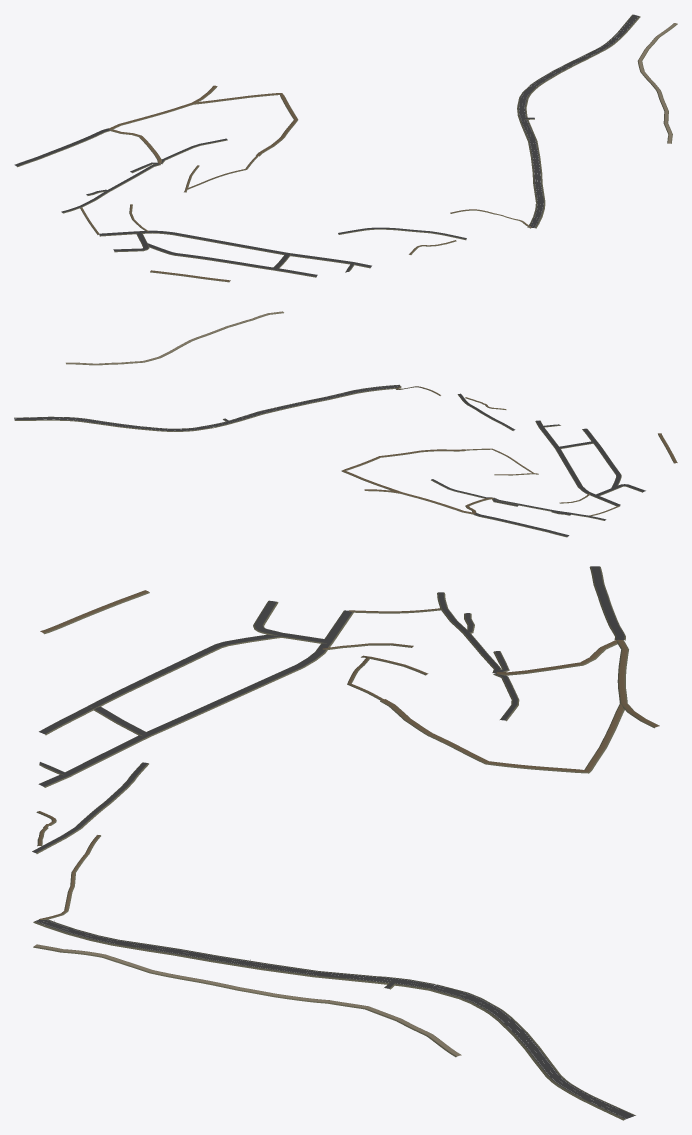
3 renders of one model, top to bottom at view 1: azimuth 30°, elevation 25°; view 2: azimuth 150°, elevation 25°; view 3: azimuth 270°, elevation 25°, orthographic. The views are drawn at different scales.
Visible parts, largest first — view 1: roads; view 2: roads; view 3: roads.
Boxes of the visible parts, x1,y1,x2,y2 form: roads: [14, 14, 677, 282]; roads: [14, 311, 677, 537]; roads: [32, 566, 659, 1120].
Bounding box in the file's own units: 818 × 67.63 × 407.
